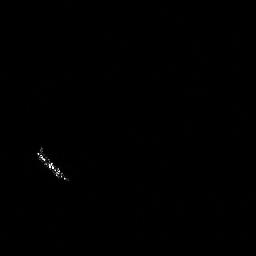ship: (36, 146, 70, 183)
